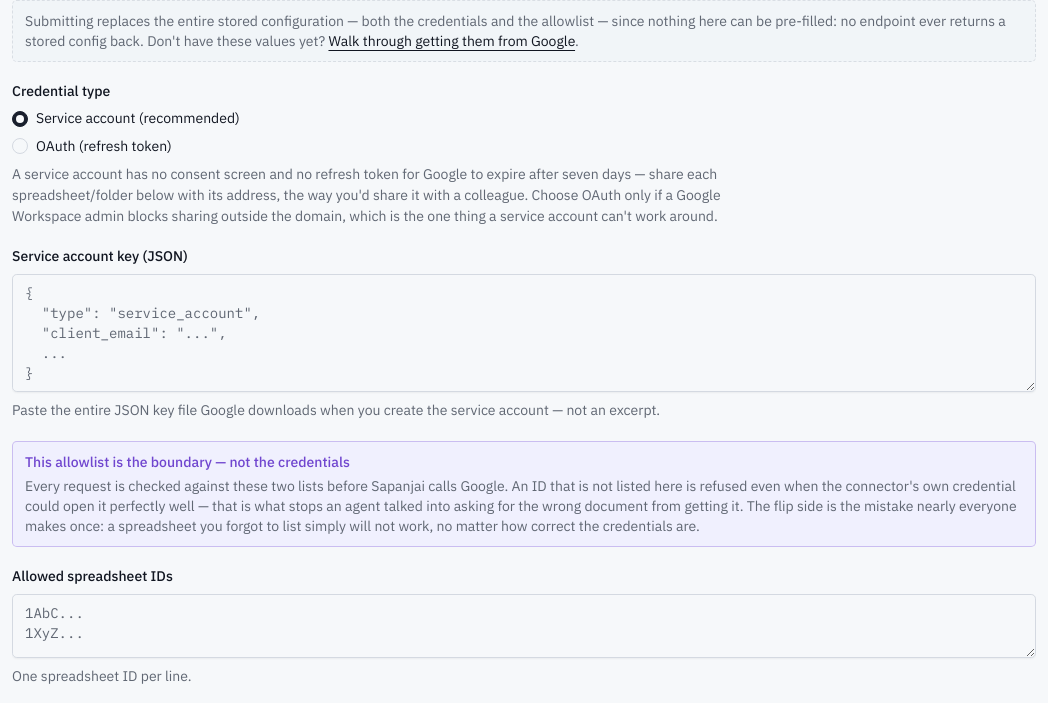
Test case: GoogleSheetsForm › prints the exact read-only scopes a refresh token has to carry
The width and height of the screenshot is (1048, 703).
Click the radio button named "OAuth (refresh token)" next to "OAuth (refresh token)" at [20, 146], box [12,138,28,154]
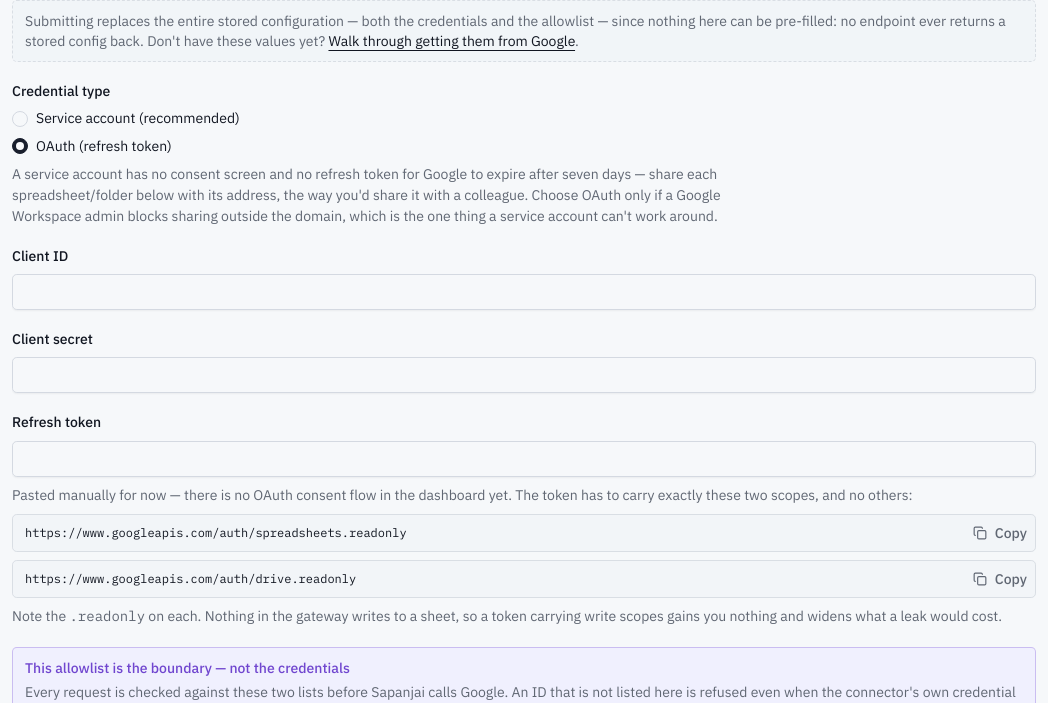
Expected: the text "https://www.googleapis.com/auth/spreadsheets.readonly" is shown, [25,525,407,540]
Expected: the text "https://www.googleapis.com/auth/drive.readonly" is shown, [25,571,356,586]
